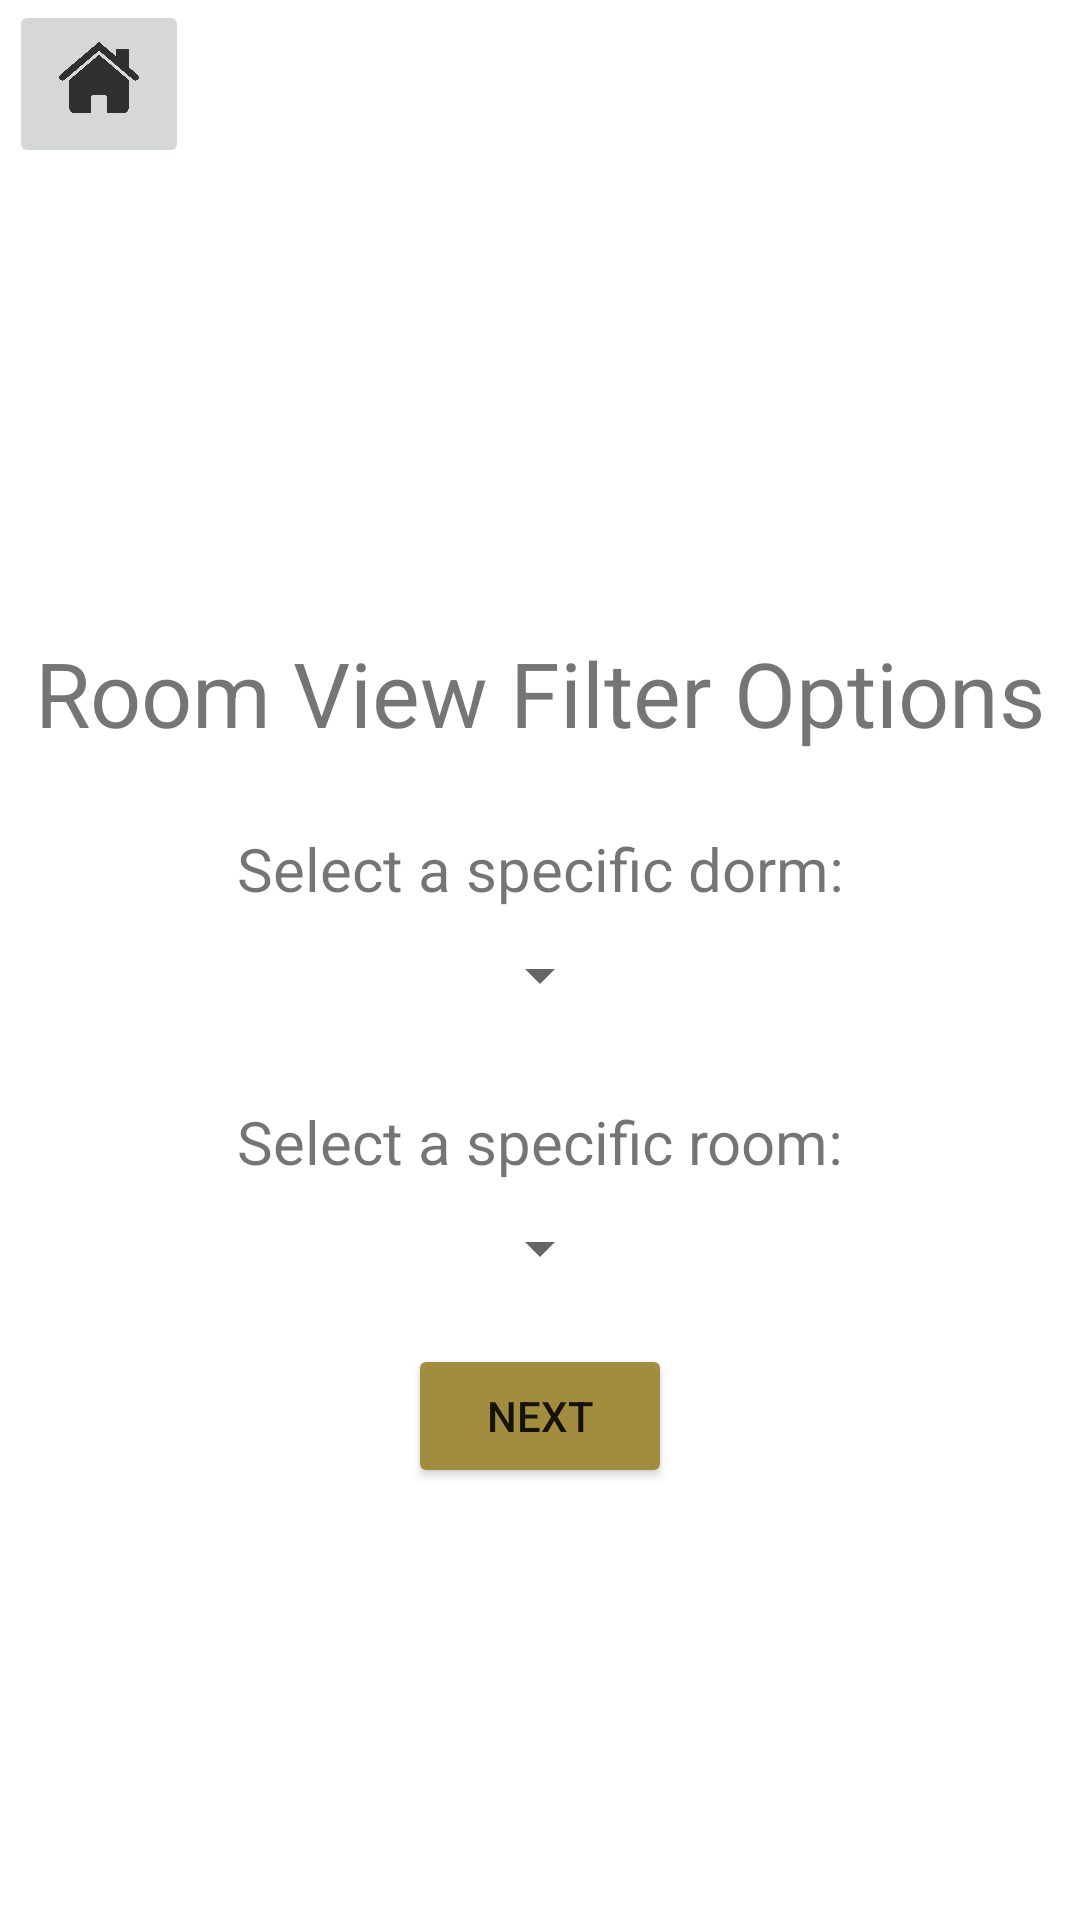

Icon bounding boxes for this 1080w x 1920h phone screenshot, format BBox(x1, y1, x2, y2):
home: BBox(21, 18, 177, 150)
